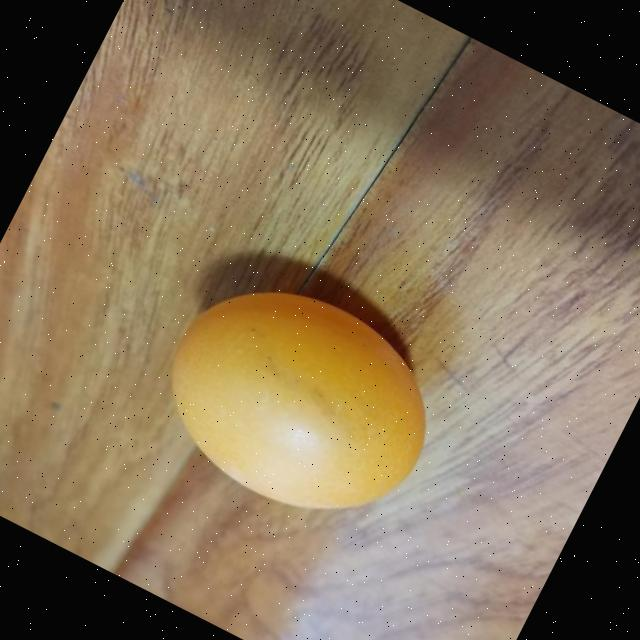ping-pong-ball: (133, 250, 465, 552)
